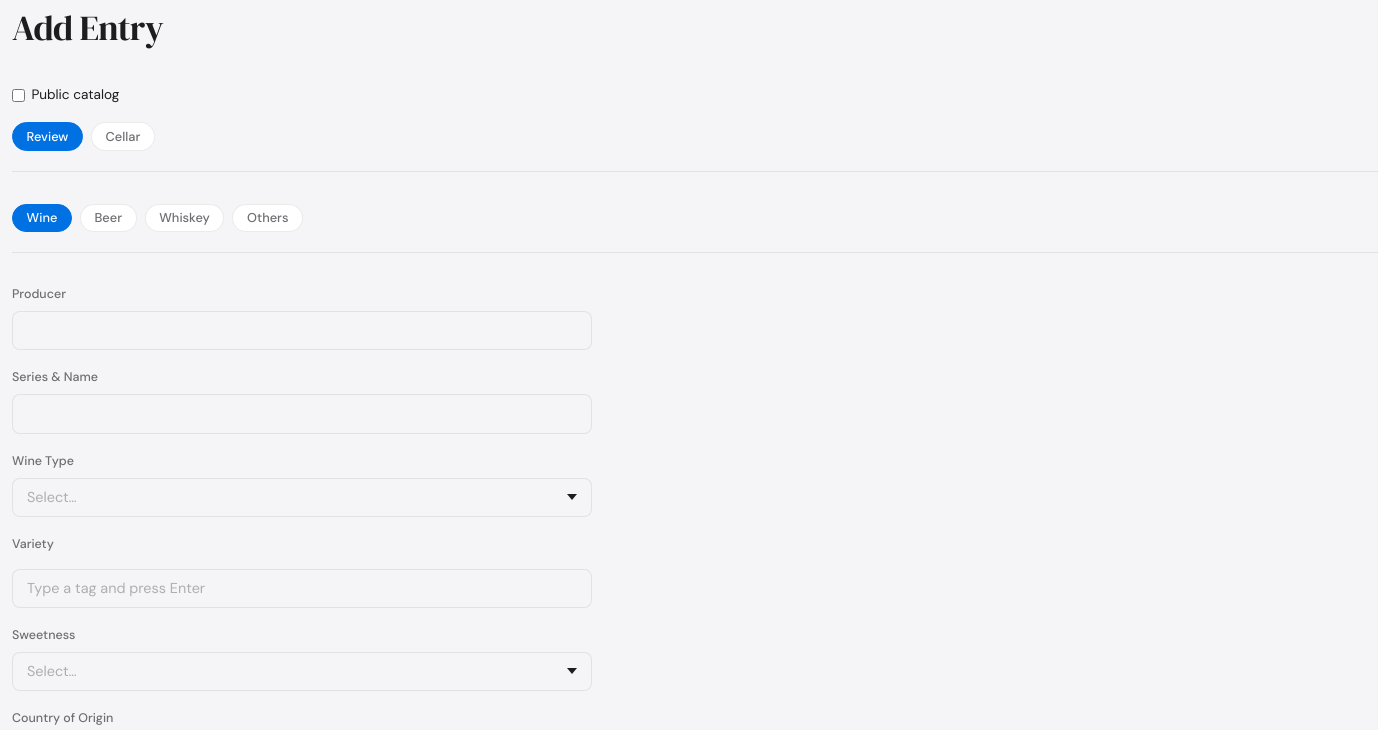
Test: shows producer, name, country, ABV, quantity, price fields
Click the button "Cellar". click: [123, 136]
box: [91,122,155,151]
(page scrolled)
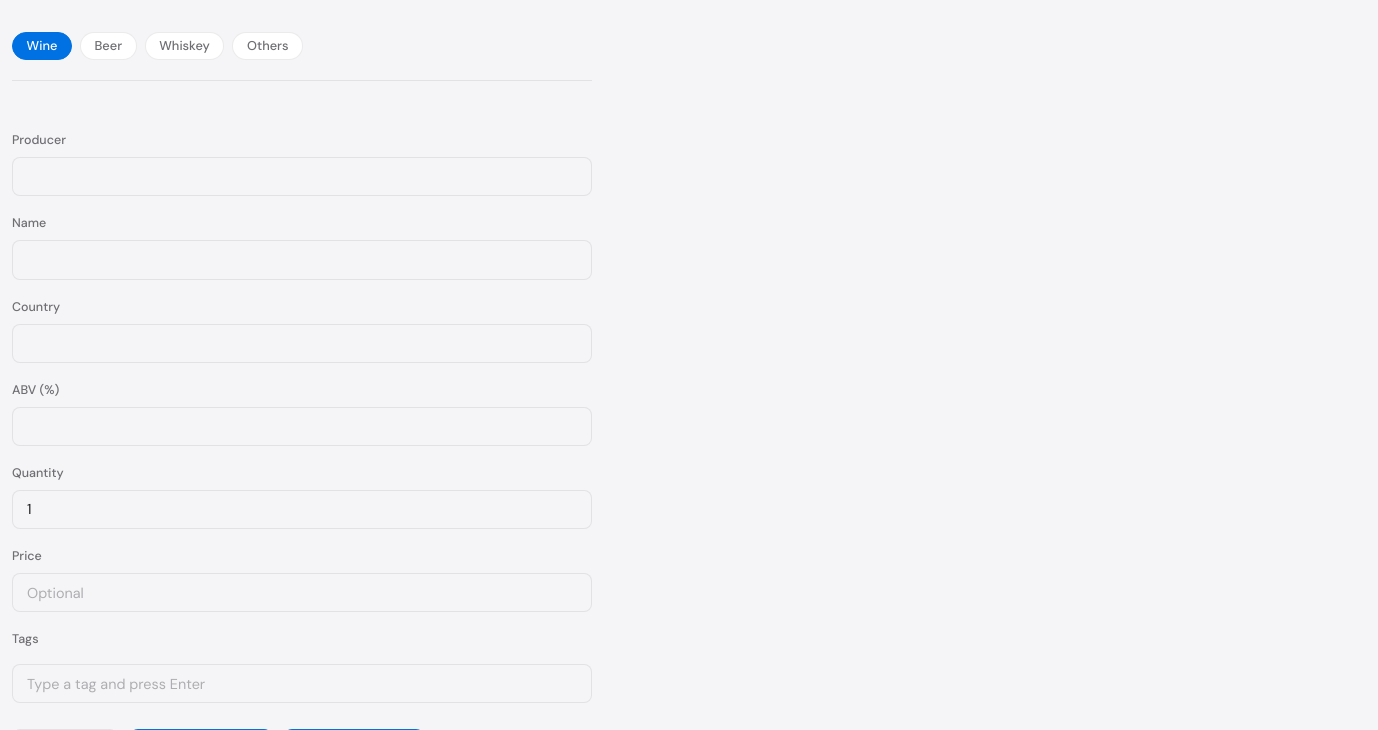
Result: the number field labelled "Quantity" is shown at [12,490,592,529]
Result: the number field labelled "Price" is shown at [12,573,592,612]
